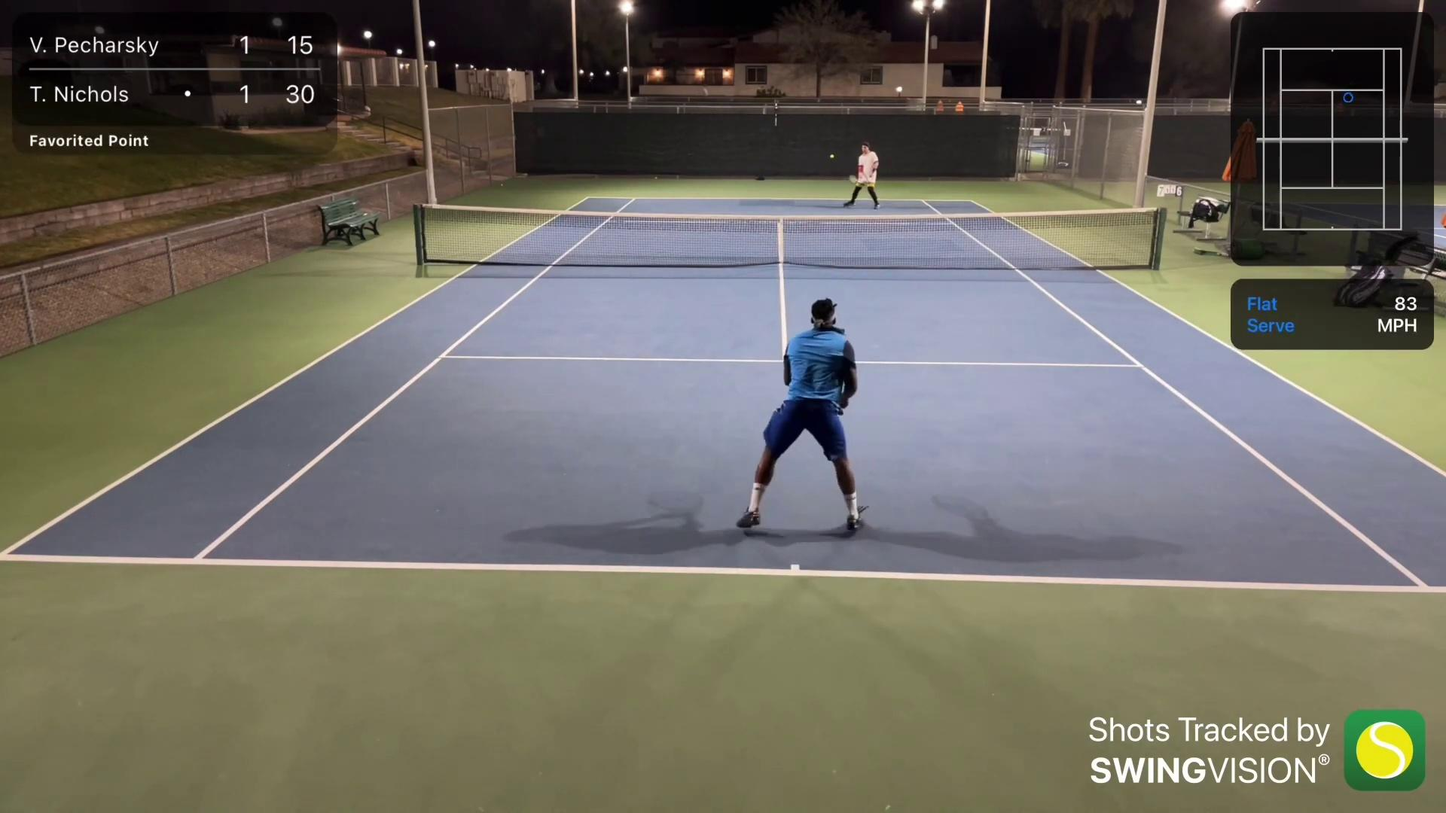ball: (828, 152, 836, 159)
